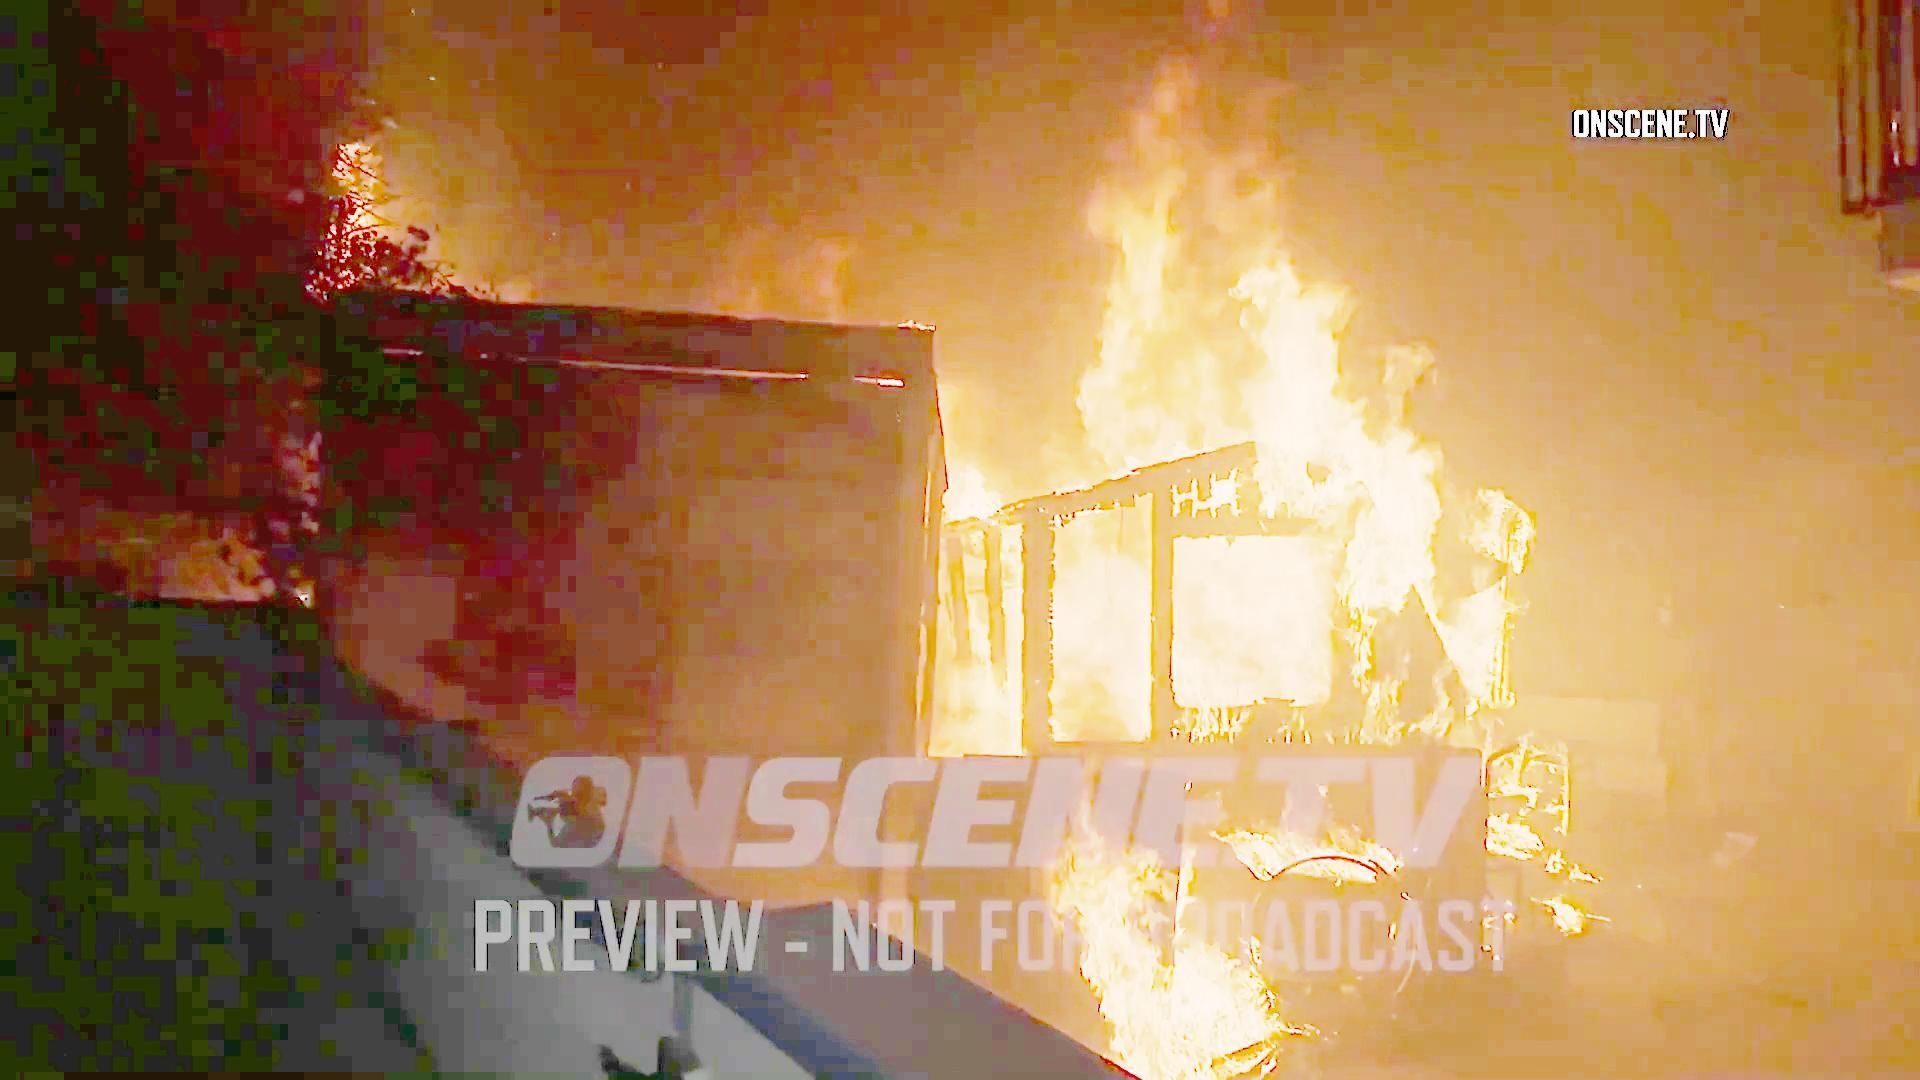fire: (923, 0, 1523, 738), (1046, 800, 1288, 1075)
